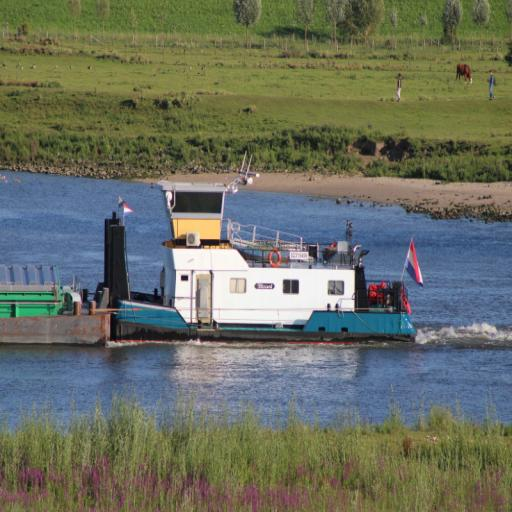tugboat: (97, 147, 426, 354)
